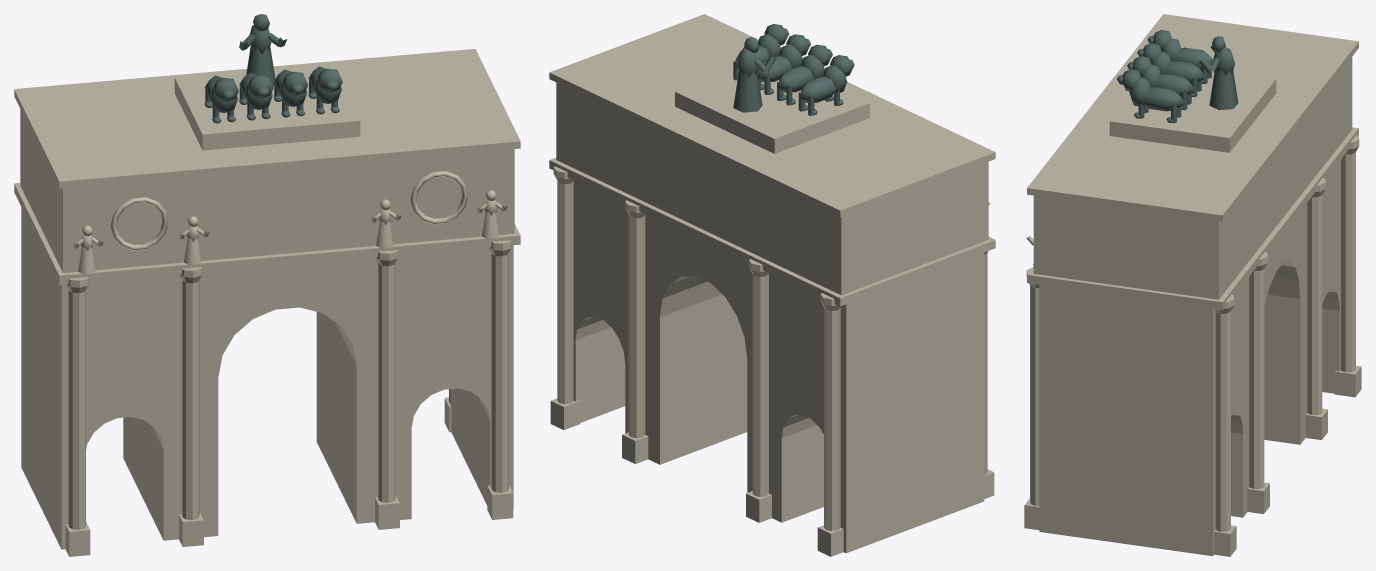
Rendered from siegestor-munich-near.glb.
The picture shows the model from 3 angles, left to right: view 1: azimuth 30°, elevation 25°; view 2: azimuth 150°, elevation 25°; view 3: azimuth 270°, elevation 25°; orthographic projection. The views are drawn at different scales.
Parts seen in each view (by area): view 1: siegestor-munich-0-stone, siegestor-munich-0-bronze; view 2: siegestor-munich-0-stone, siegestor-munich-0-bronze; view 3: siegestor-munich-0-stone, siegestor-munich-0-bronze.
Part boxes in pixels (bbox=[...]): siegestor-munich-0-stone: bbox=[14, 49, 520, 556]; siegestor-munich-0-bronze: bbox=[204, 14, 342, 123]; siegestor-munich-0-stone: bbox=[549, 14, 995, 556]; siegestor-munich-0-bronze: bbox=[733, 24, 854, 115]; siegestor-munich-0-stone: bbox=[1024, 14, 1361, 556]; siegestor-munich-0-bronze: bbox=[1117, 30, 1238, 123].
Bounding box in the file's own units: 26.37 × 26 × 18.65.
